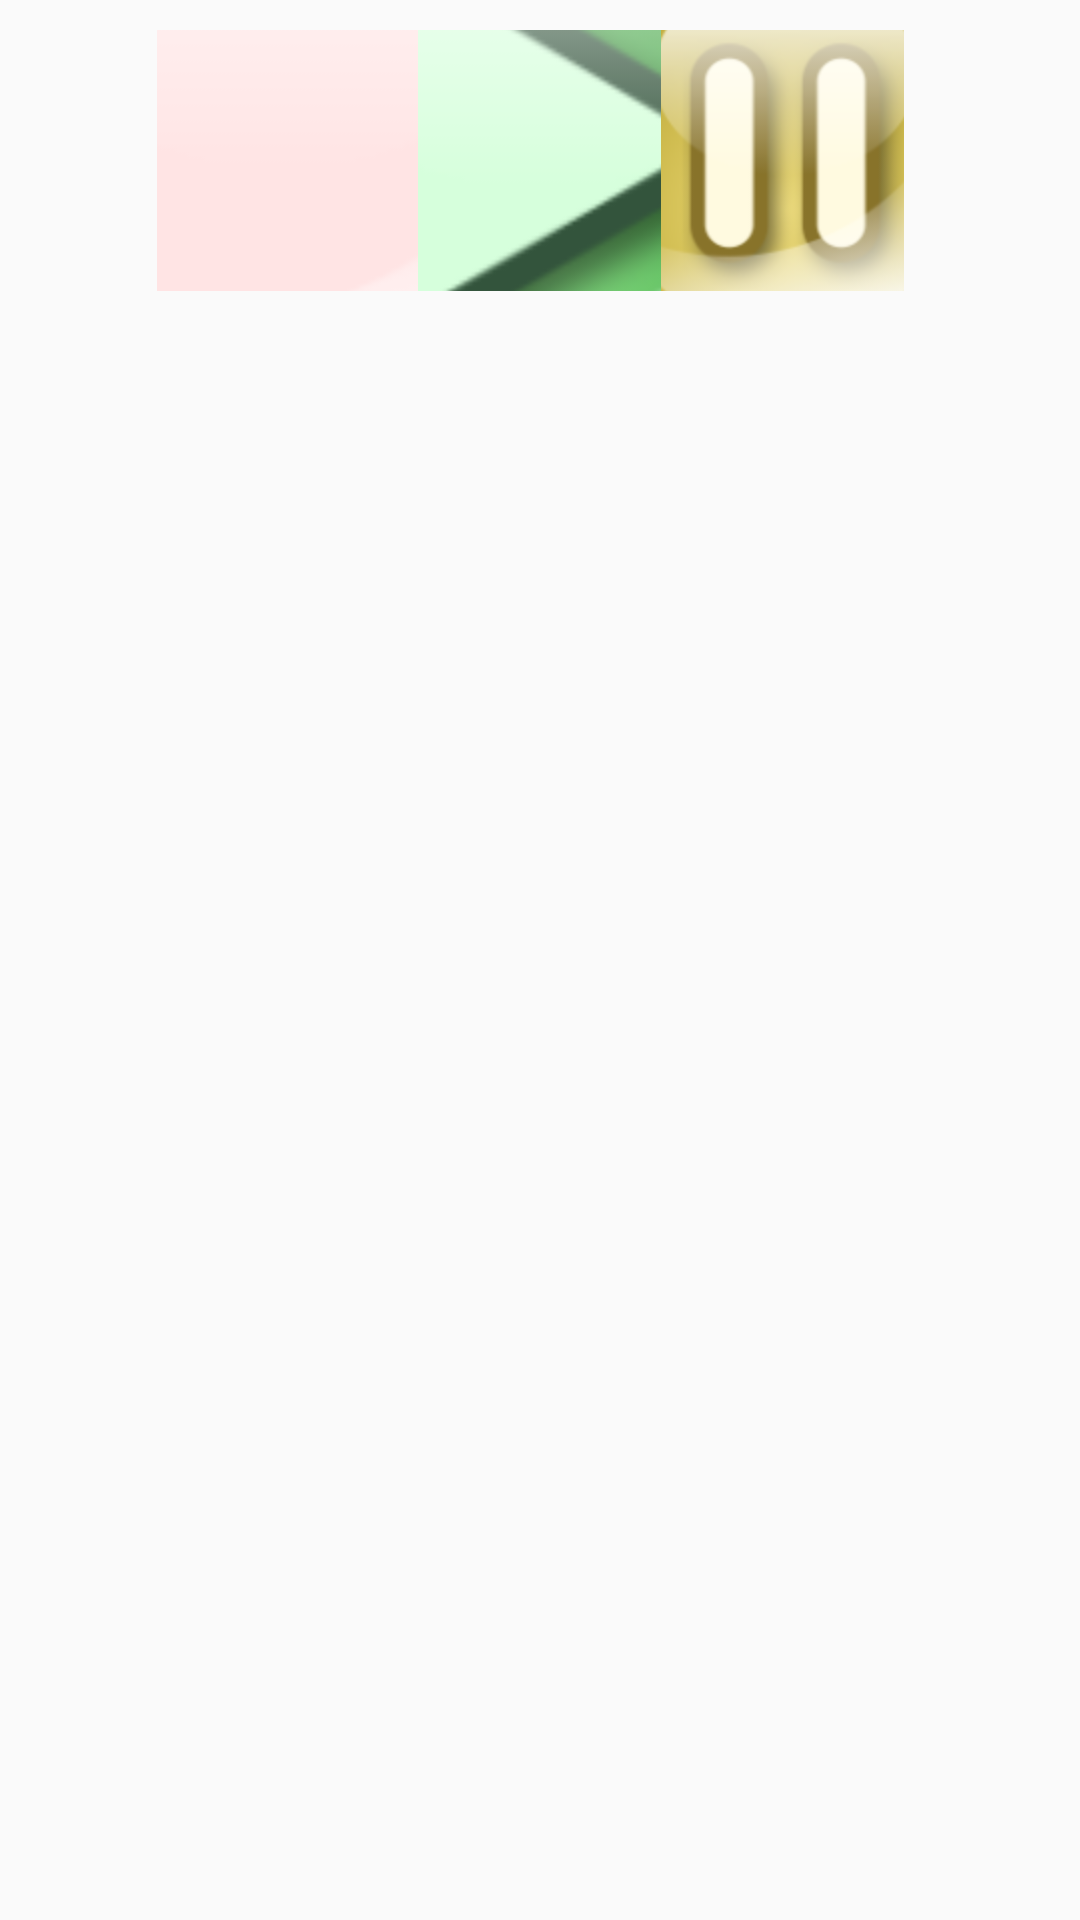

Screen size 1080w x 1920h. Icon name, then its center in pixels as (x,y):
pause: (782,160)
start: (539,160)
